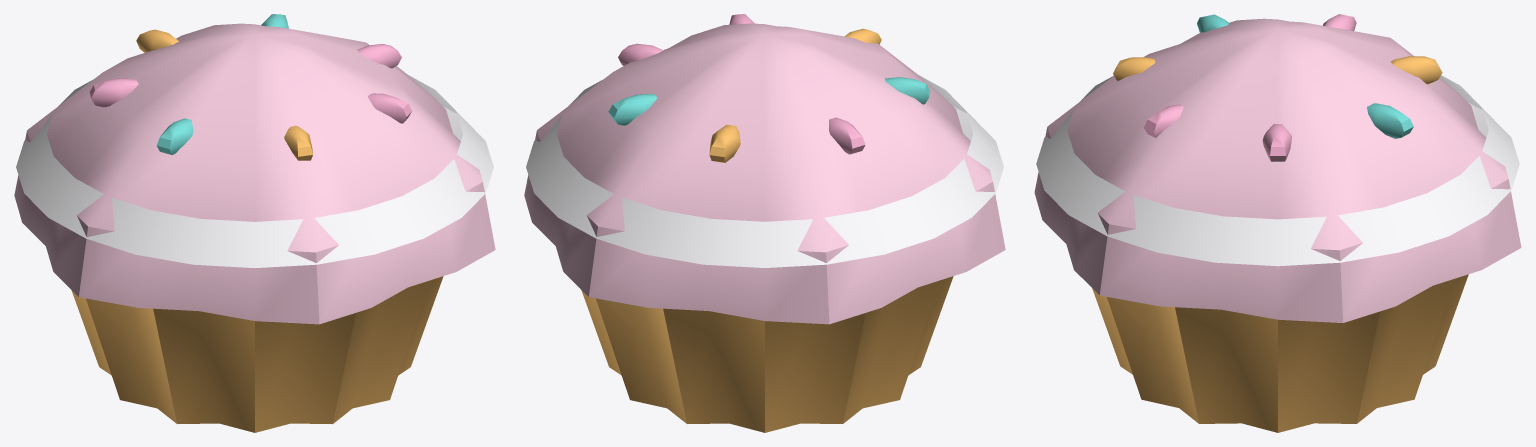
Rendered from Cupcake_Pink.fbx.
3 renders of one model, left to right at view 1: azimuth 30°, elevation 25°; view 2: azimuth 150°, elevation 25°; view 3: azimuth 270°, elevation 25°, orthographic.
Visible parts, largest first — view 1: Cupcake_Pink; view 2: Cupcake_Pink; view 3: Cupcake_Pink.
Part boxes in pixels (x1,y1,x2,y2): Cupcake_Pink: [14, 14, 495, 432]; Cupcake_Pink: [524, 14, 1005, 432]; Cupcake_Pink: [1034, 14, 1521, 432].
Size of the model in its own units: 3.53 by 2.7 by 3.53.
